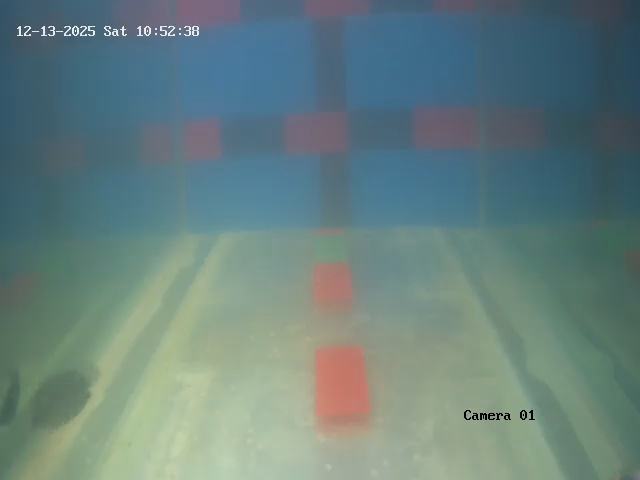fish: (26, 354, 100, 437)
